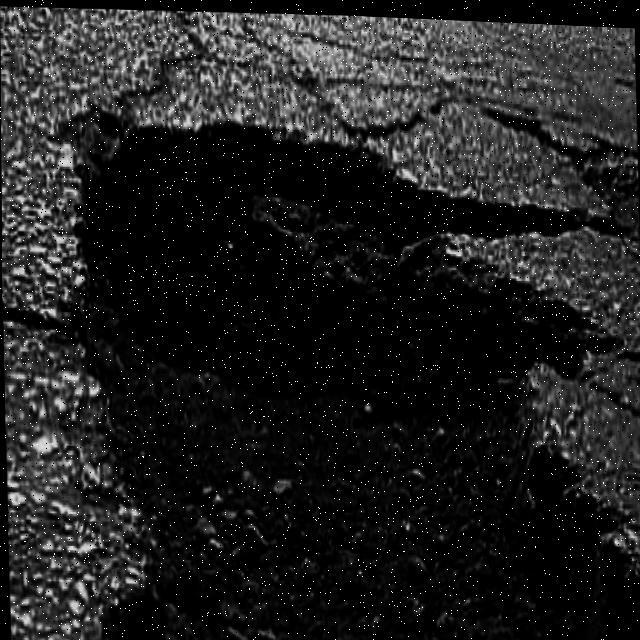pothole: (71, 98, 640, 640)
